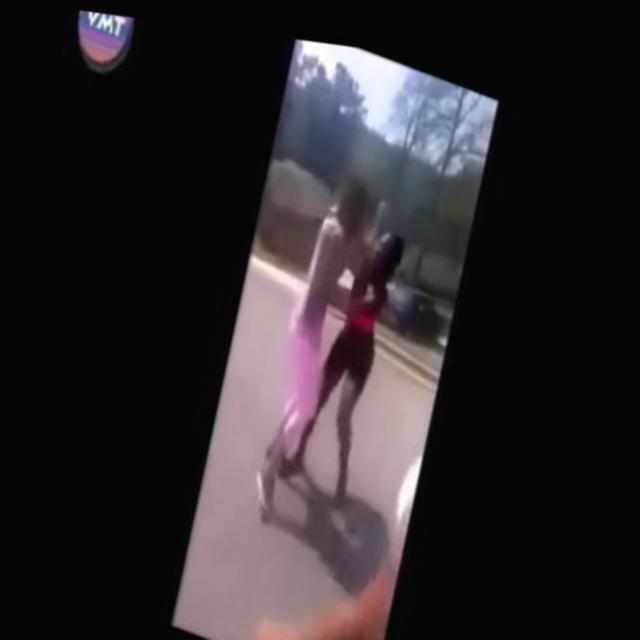fight: (234, 139, 432, 544)
